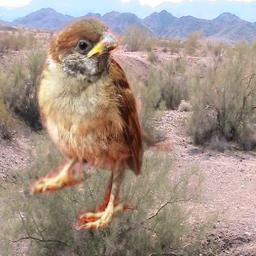Sparrow: (27, 16, 176, 230)
